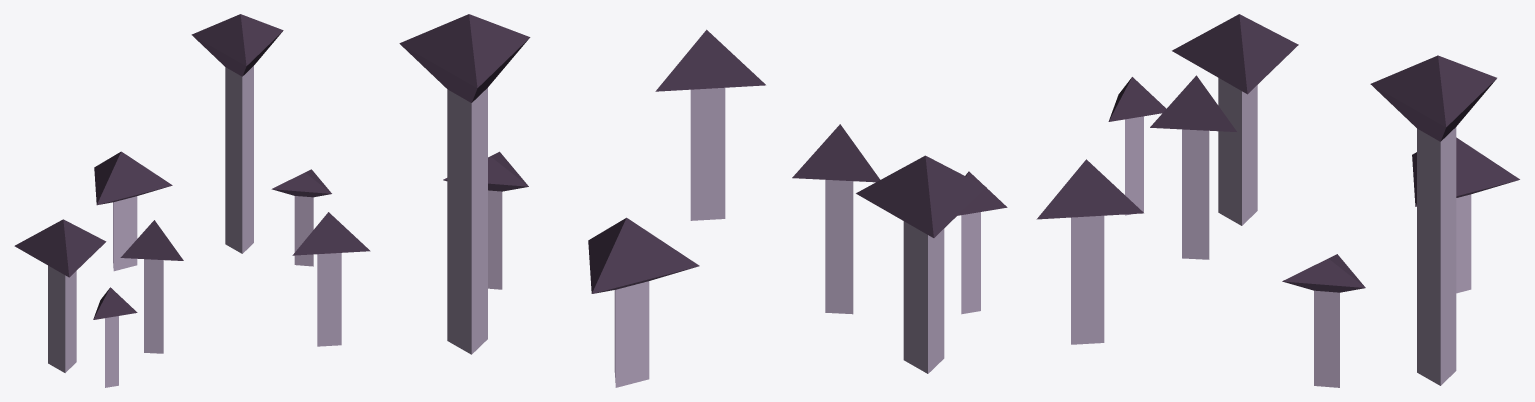
The model's file is Pests-SporeHex.fbx.
3 renders of one model, left to right at view 1: azimuth 30°, elevation 25°; view 2: azimuth 150°, elevation 25°; view 3: azimuth 270°, elevation 25°, orthographic. The views are drawn at different scales.
Parts seen in each view (by area): view 1: Pests-SporeHex; view 2: Pests-SporeHex; view 3: Pests-SporeHex.
Boxes of the visible parts, box(x1,y1,x2,y2) form: Pests-SporeHex: box(14, 14, 370, 387); Pests-SporeHex: box(399, 14, 1007, 387); Pests-SporeHex: box(1036, 14, 1519, 387).
Size of the model in its own units: 0.6768 by 0.6375 by 0.4776.
